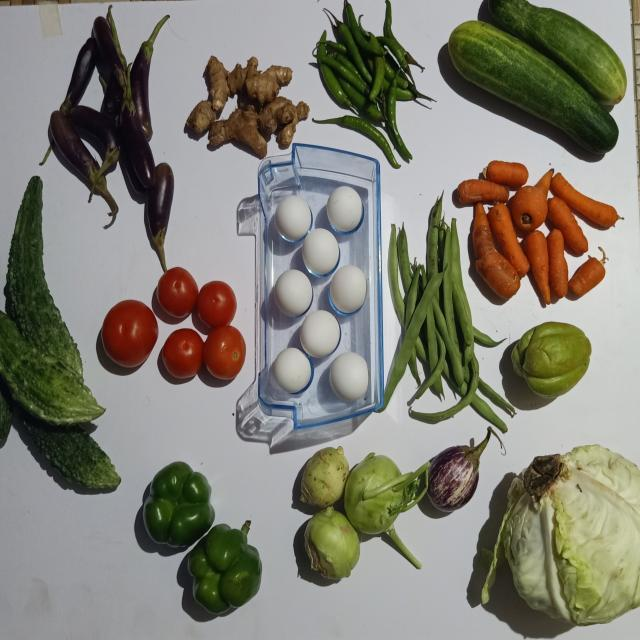Beans: (433, 297, 465, 387), (443, 227, 461, 358), (453, 280, 474, 347), (426, 301, 439, 373)
Bitter Gourd: (3, 176, 82, 382), (0, 311, 104, 425), (23, 413, 120, 489), (0, 377, 11, 446)
Brinjal: (49, 110, 117, 216), (69, 104, 120, 176), (147, 162, 174, 272), (120, 106, 155, 188)
Cabbage: (483, 446, 640, 626)
Capsicum: (187, 522, 261, 615), (143, 462, 215, 548)
Carrot: (473, 203, 521, 299), (488, 203, 530, 277), (525, 230, 552, 304), (547, 228, 569, 298)
Chayote: (512, 322, 593, 398)
Cucumber: (449, 20, 620, 153), (490, 0, 628, 104)
Egg: (329, 352, 369, 402), (300, 310, 341, 358), (329, 265, 367, 316), (274, 269, 313, 316), (327, 185, 364, 234), (302, 228, 340, 275), (273, 348, 311, 393), (275, 195, 311, 240)
Eggplant: (428, 427, 505, 513)
Ginger: (208, 108, 267, 157), (258, 96, 297, 136), (205, 55, 230, 110), (186, 100, 216, 132)
Green Chilly: (313, 114, 401, 168), (387, 75, 413, 159), (320, 61, 352, 106), (369, 55, 385, 100)
Tomato: (101, 300, 158, 367), (202, 325, 246, 379), (161, 328, 203, 378), (157, 267, 198, 318), (197, 281, 236, 328)
Turnip: (345, 454, 430, 570), (305, 507, 360, 581), (301, 447, 349, 509)
